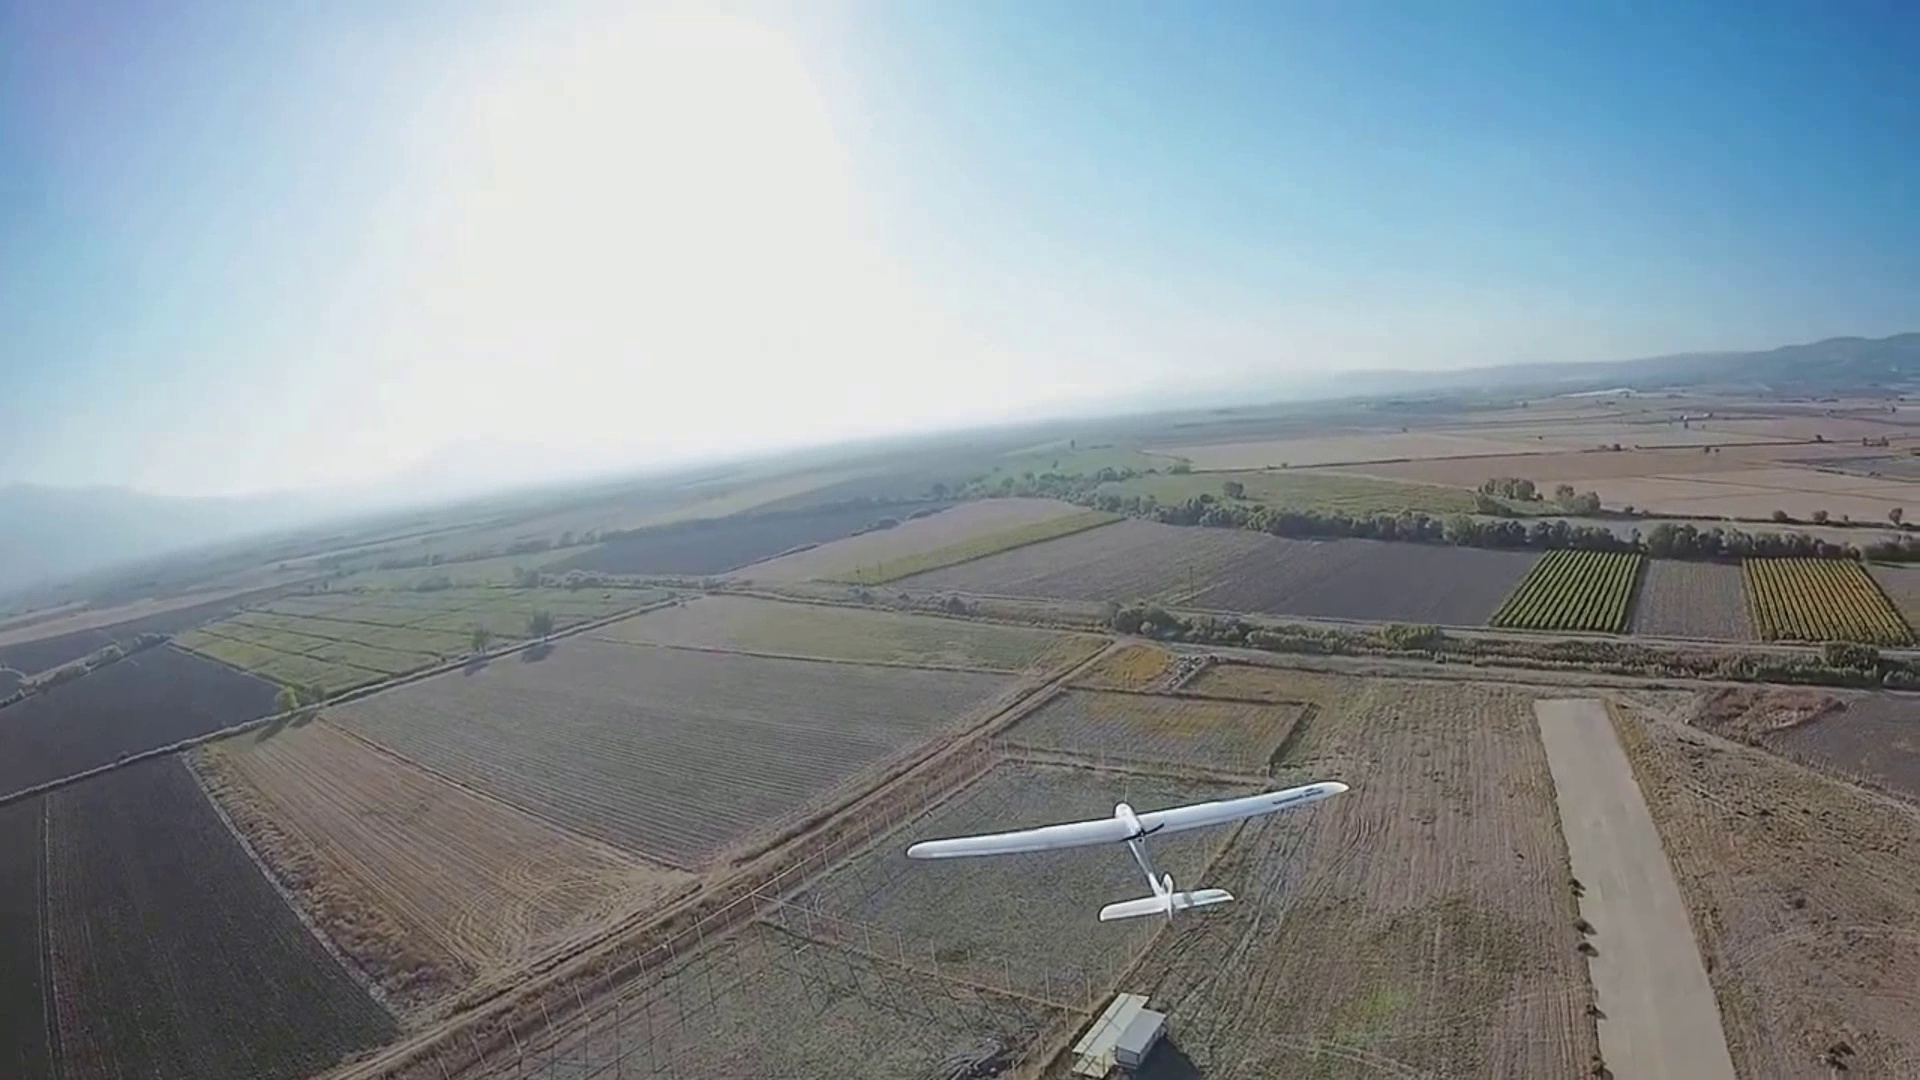airplane: (907, 709, 1346, 926), (910, 785, 1346, 926)
